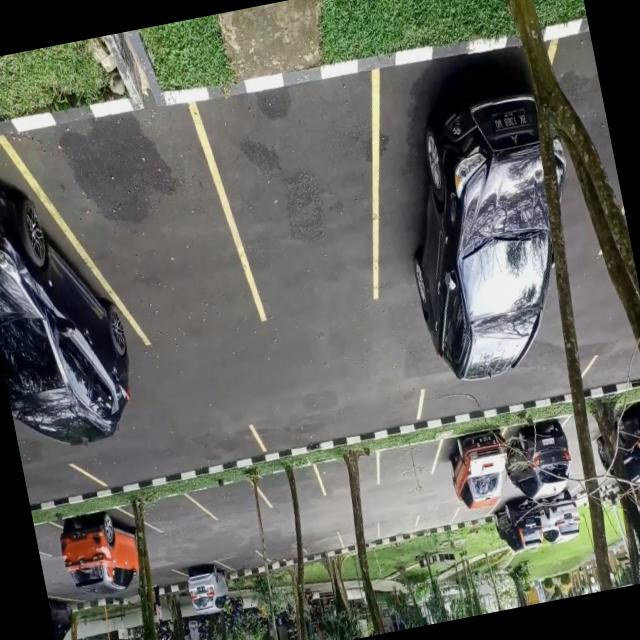car: (354, 42, 564, 318), (0, 139, 114, 408), (58, 507, 144, 592), (436, 429, 512, 502), (184, 558, 232, 608)
free: (214, 70, 403, 328), (72, 99, 248, 358), (84, 420, 266, 495), (254, 388, 428, 458), (24, 460, 94, 510), (372, 442, 442, 491), (198, 478, 267, 524), (258, 464, 324, 510), (318, 454, 384, 500), (142, 492, 204, 536), (222, 548, 268, 584), (376, 512, 422, 548), (261, 538, 304, 573), (415, 505, 460, 537), (302, 530, 346, 562), (338, 522, 382, 554), (456, 504, 492, 530)
